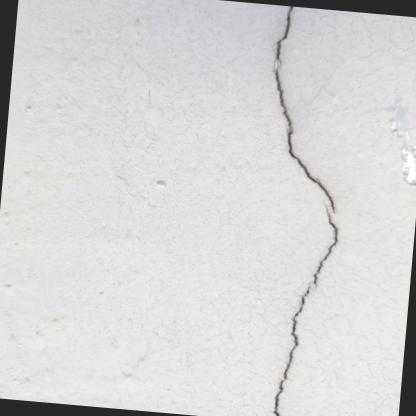crack: (273, 207, 336, 416), (273, 68, 334, 212), (276, 6, 293, 59)
